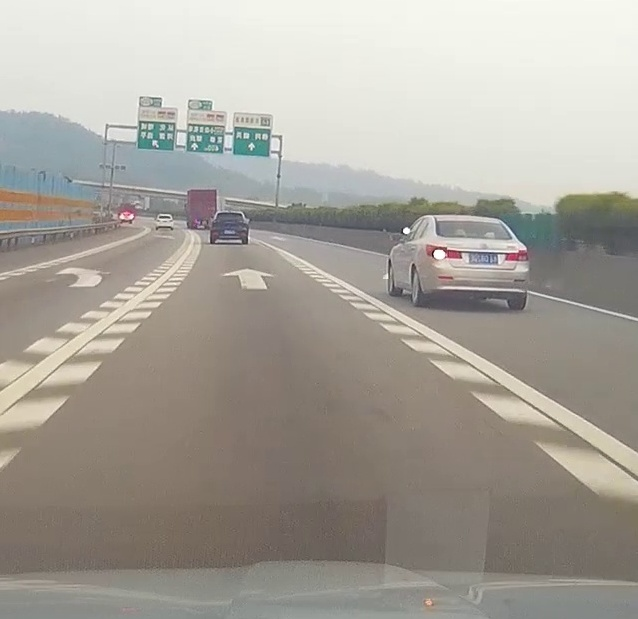L_light: (426, 244, 461, 259), (212, 221, 220, 226)
R_light: (505, 250, 527, 261), (238, 221, 247, 226)
T_light: (463, 221, 480, 225), (227, 212, 233, 215)
day-left: (425, 215, 529, 309)
day-no: (210, 210, 248, 244)
